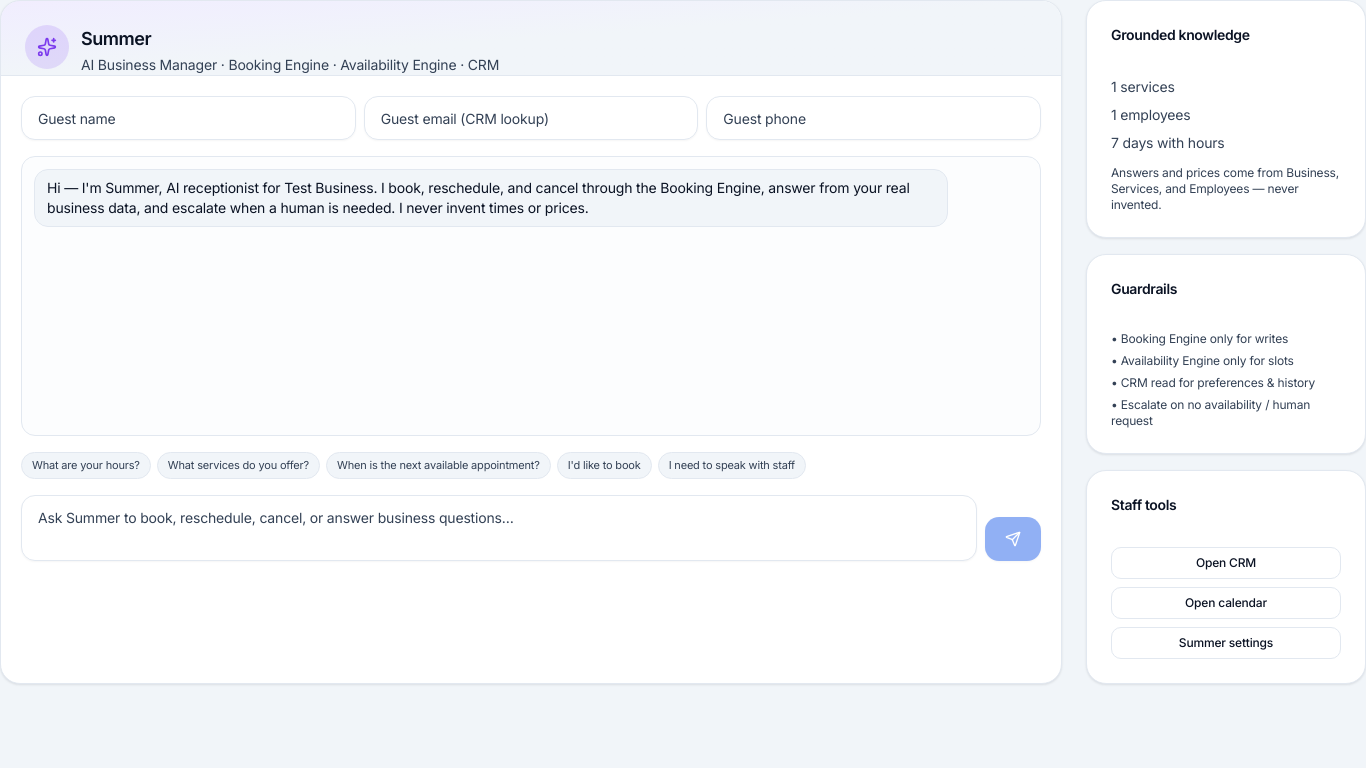
Test: Summer Location disclosure › uses the selected option's Location when multiple options have different Locations
Type "Book a consultation" into the text box named "Message Summer". click: x=499, y=528
box: [21, 494, 977, 560]
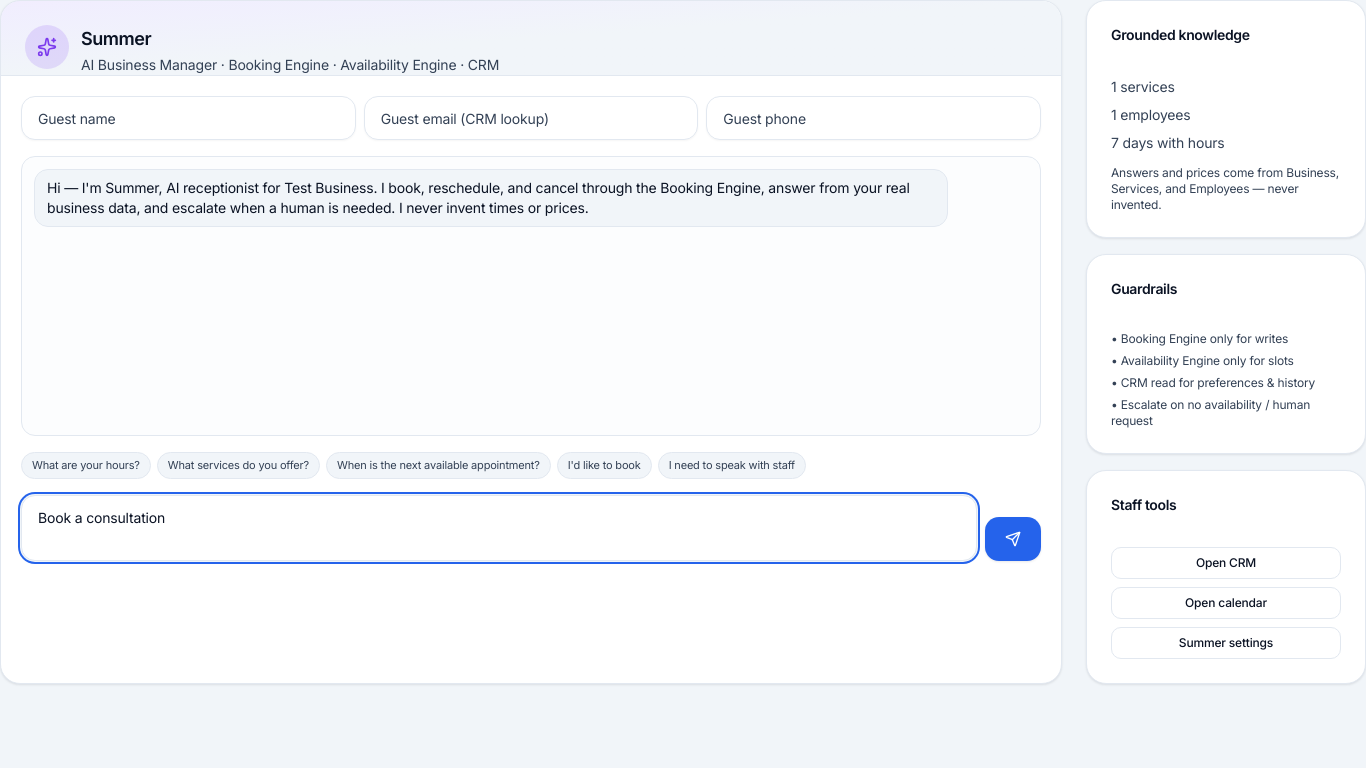
Click the button named "Send message". click: x=1013, y=538
box: [985, 516, 1041, 560]
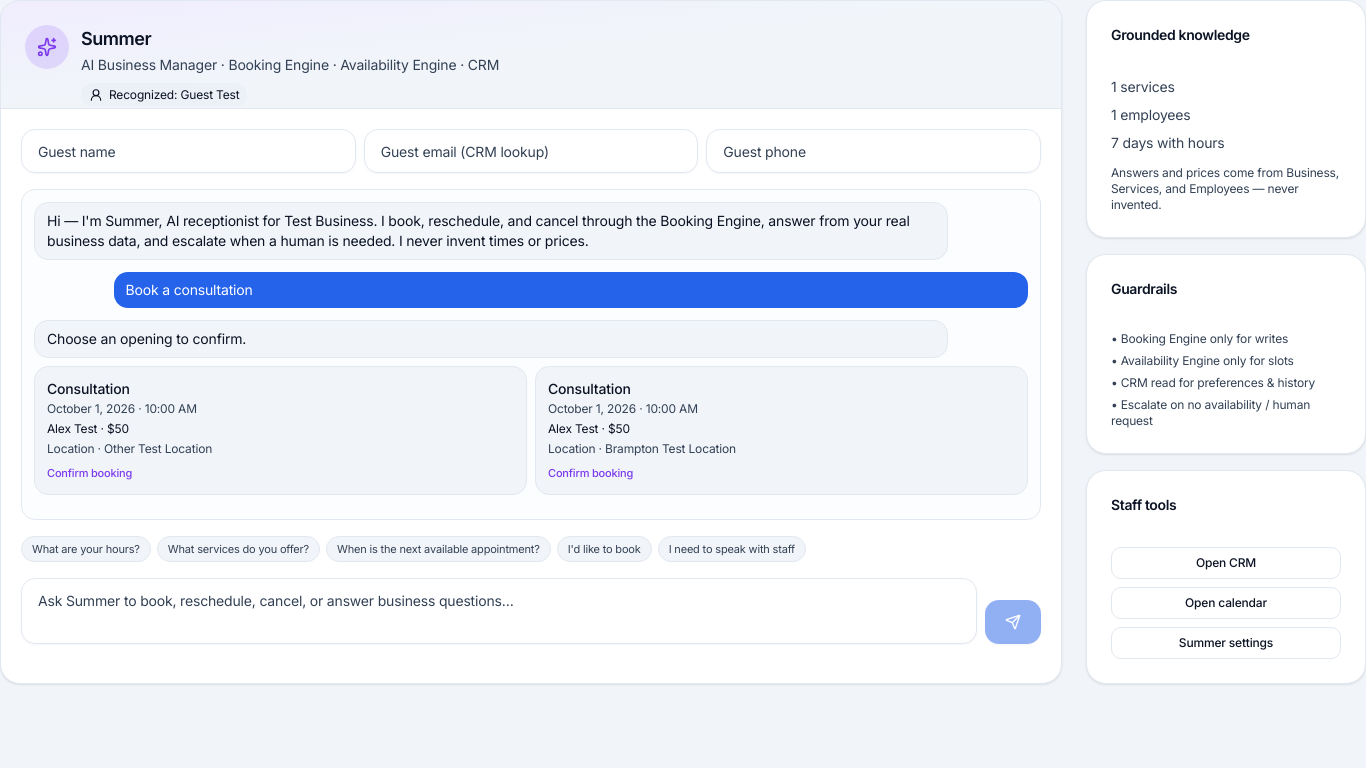
Expected: the button named "Location · Other Test Location" is shown, [34, 366, 527, 494]
Click the button named "Location · Brampton Test Location". click: x=589, y=388
box: [535, 366, 1028, 494]
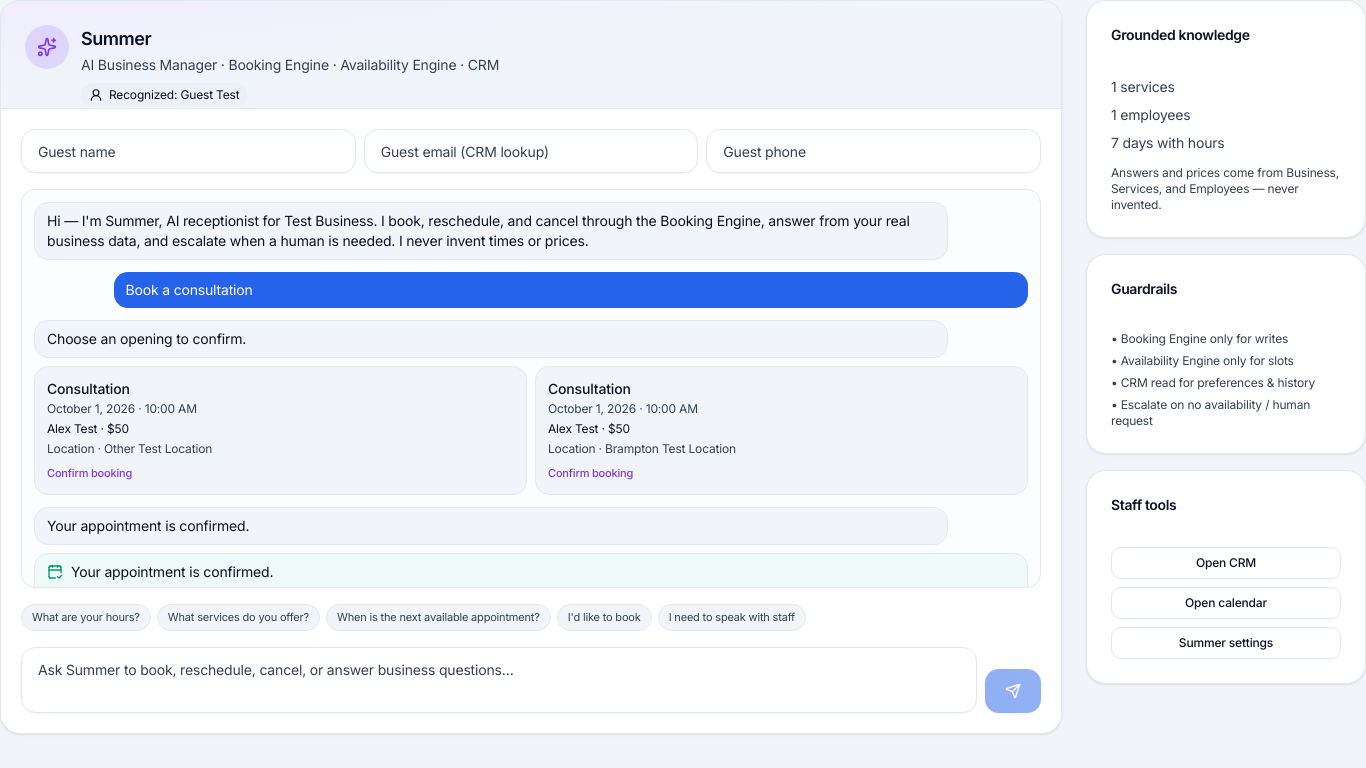
Expected: the 2nd text "Your appointment is confirmed." is shown, [71, 562, 273, 582]
